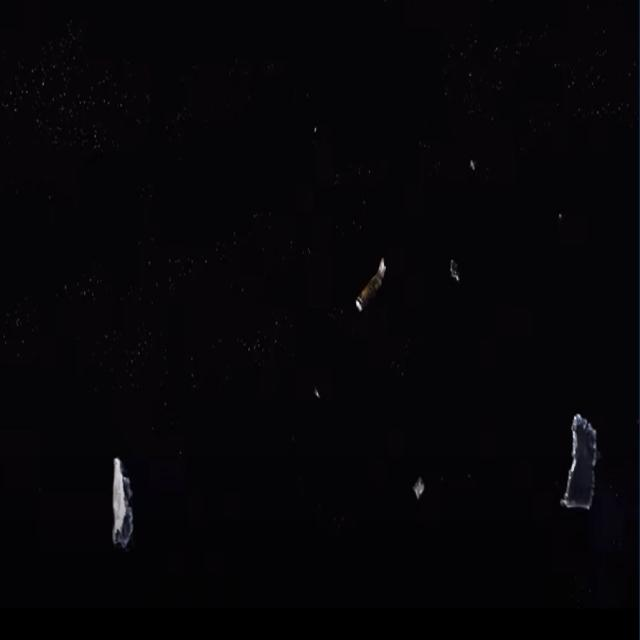large_debris: (561, 392, 602, 536), (335, 243, 395, 334), (100, 442, 140, 567)
